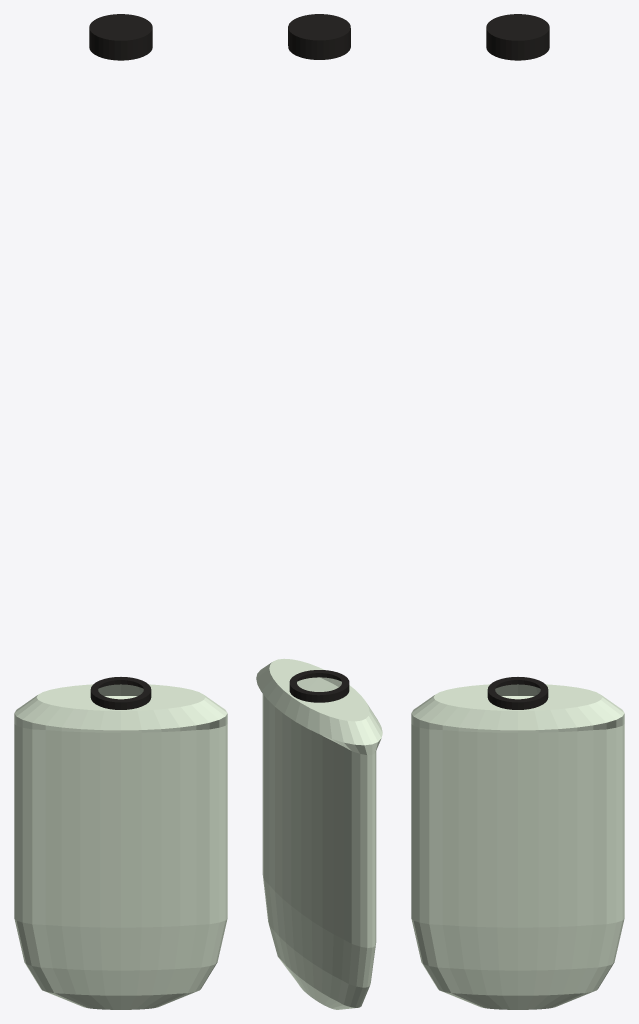
Rendered from paddle.fbx.
3 renders of one model, left to right at view 1: azimuth 90°, elevation 25°; view 2: azimuth 210°, elevation 25°; view 3: azimuth 270°, elevation 25°, orthographic.
Parts seen in each view (by area): view 1: Paddle-solo; view 2: Paddle-solo; view 3: Paddle-solo.
Boxes of the visible parts, <box> form: Paddle-solo: <box>14,14,227,1009</box>; Paddle-solo: <box>256,14,382,1009</box>; Paddle-solo: <box>411,14,624,1009</box>.
Bounding box in the file's own units: 9.7 × 128 × 25.27.
